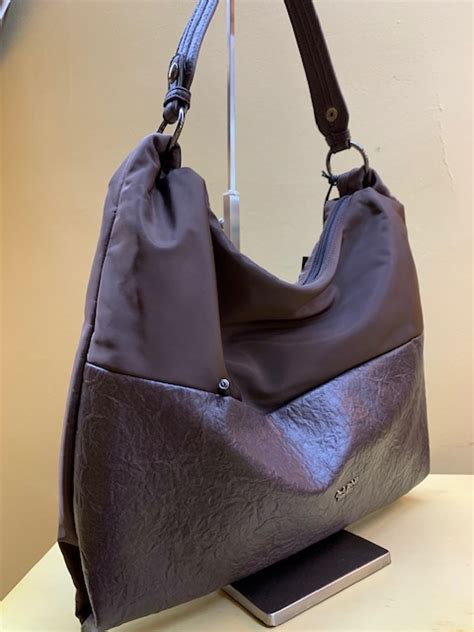nylon: (81, 131, 429, 377)
